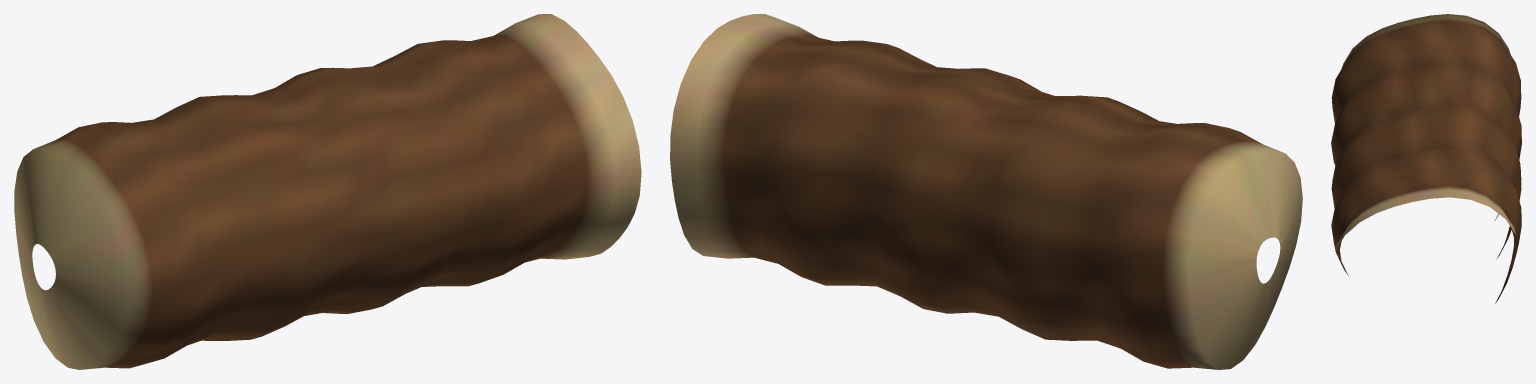
File: turtle-prop-log.glb
3 views of the same model, side by side, from view 1: azimuth 30°, elevation 25°; view 2: azimuth 150°, elevation 25°; view 3: azimuth 270°, elevation 25° (orthographic). The views are drawn at different scales.
Visible parts, largest first — view 1: turtle-prop-log; view 2: turtle-prop-log; view 3: turtle-prop-log.
Boxes of the visible parts, x1,y1,x2,y2 form: turtle-prop-log: (14, 14, 641, 369); turtle-prop-log: (670, 14, 1302, 369); turtle-prop-log: (1331, 14, 1521, 303).
Bounding box in the file's own units: 0.1 × 0.0402 × 0.0403.
